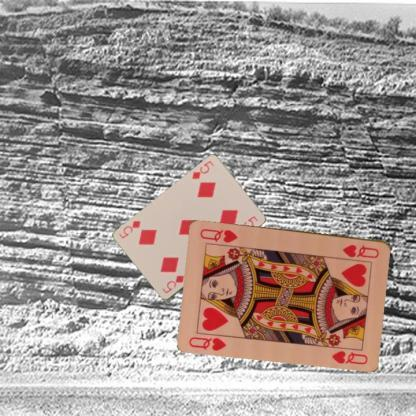5d: (160, 272, 186, 296), (189, 158, 215, 181)
Qh: (186, 334, 228, 352), (340, 242, 381, 260)
